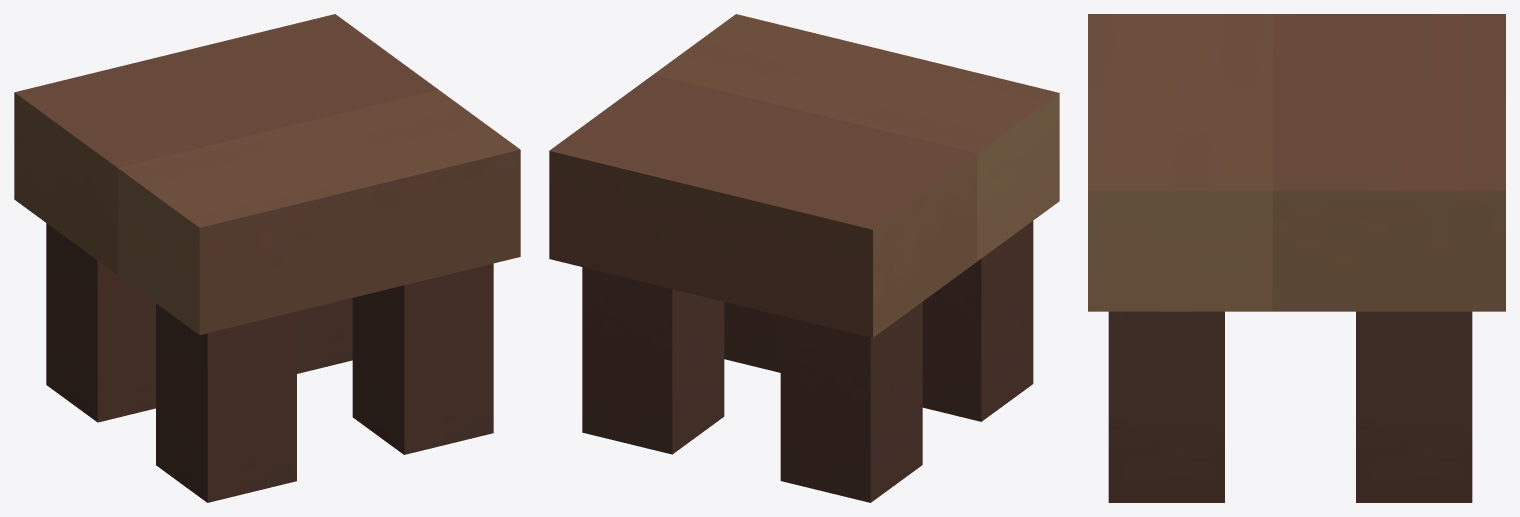
Rendered from stool.fbx.
3 views of the same model, side by side, from view 1: azimuth 30°, elevation 25°; view 2: azimuth 150°, elevation 25°; view 3: azimuth 270°, elevation 25° (orthographic). The views are drawn at different scales.
Visible parts, largest first — view 1: stool; view 2: stool; view 3: stool.
Boxes of the visible parts, x1,y1,x2,y2 form: stool: (14, 14, 520, 502); stool: (549, 14, 1059, 502); stool: (1088, 14, 1505, 502).
Size of the model in its own units: 40.63 by 34.58 by 40.63.
